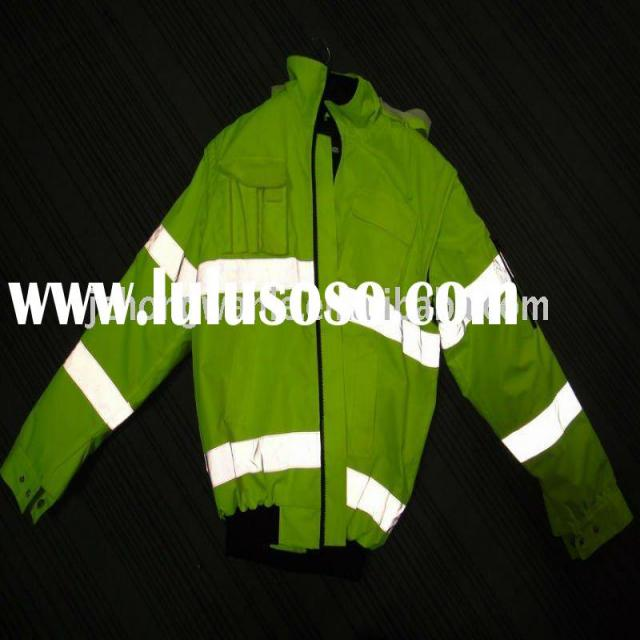Reflective-Jacket: (18, 59, 596, 568)
